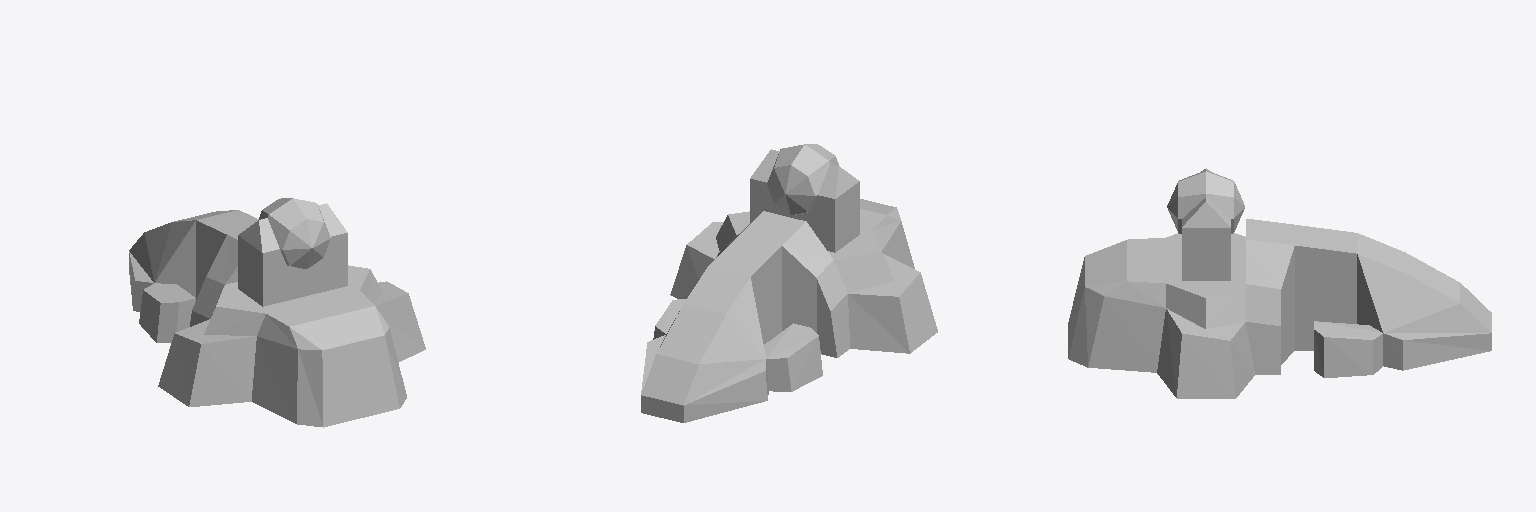
The model's file is guurahk_foot.obj.
The picture shows the model from 3 angles: view 1: azimuth 30°, elevation 25°; view 2: azimuth 150°, elevation 25°; view 3: azimuth 270°, elevation 25°; orthographic projection.
Parts seen in each view (by area): view 1: 3.007; view 2: 3.007; view 3: 3.007.
Boxes of the visible parts, x1=… form: 3.007: x1=129, y1=198, x2=425, y2=427; 3.007: x1=641, y1=144, x2=937, y2=422; 3.007: x1=1068, y1=168, x2=1491, y2=398.
Size of the model in its own units: 0.6604 by 0.4453 by 1.01.